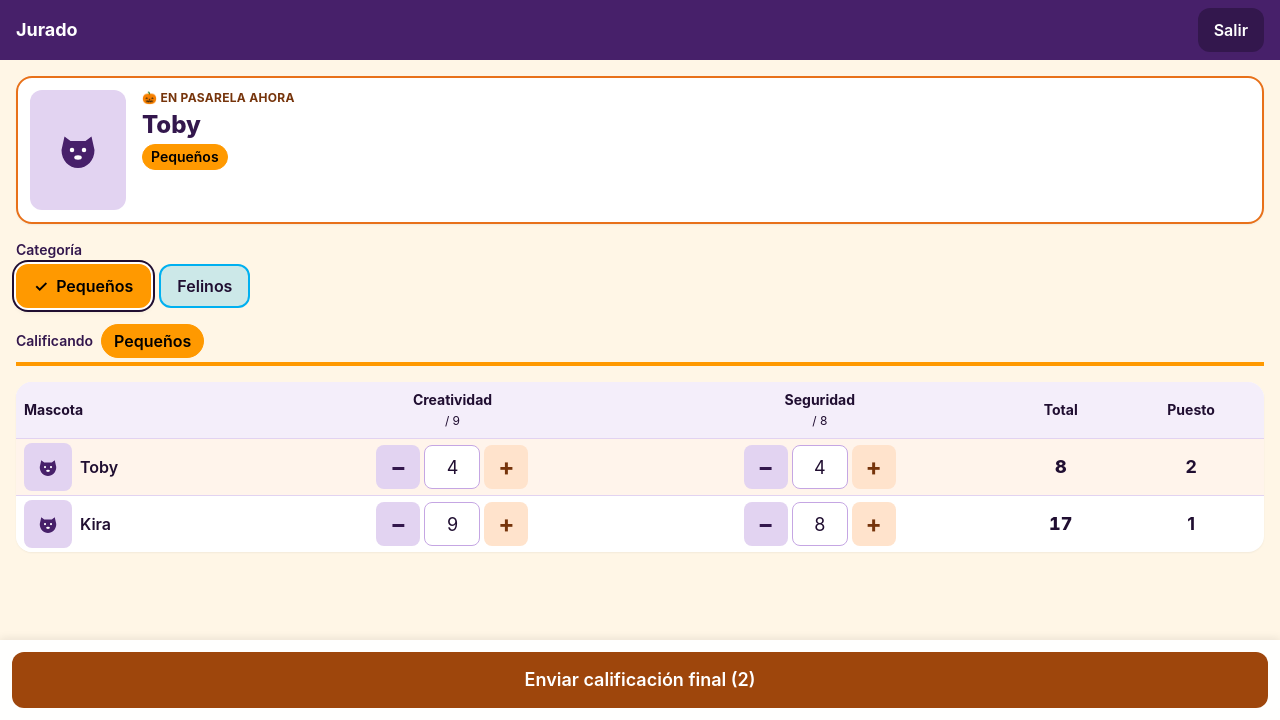
it: envío final: confirma mostrando el ranking tentativo y envía las filas pendientes de la categoría (CA6)
Click the button with test id "enviar-final" at (640, 680), box x1=12 y1=652 x2=1268 y2=708
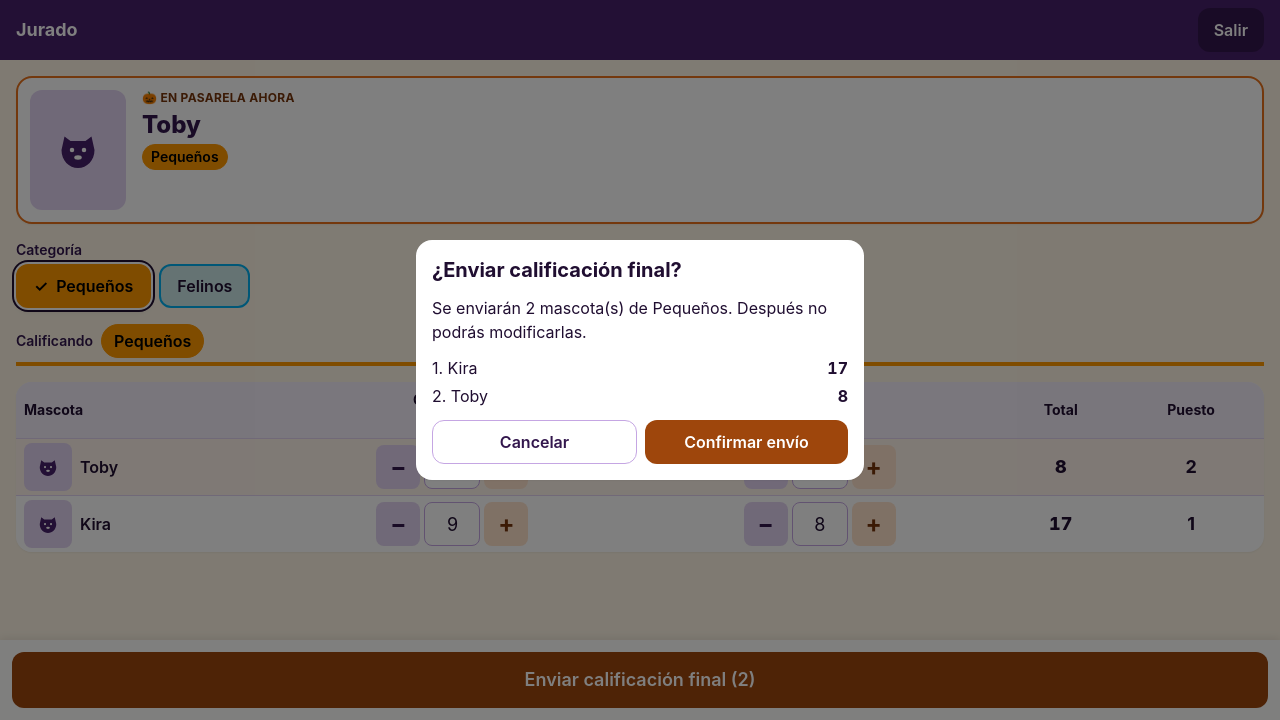
Click the button with test id "confirmar-final" at (746, 442), box x1=645 y1=420 x2=848 y2=464
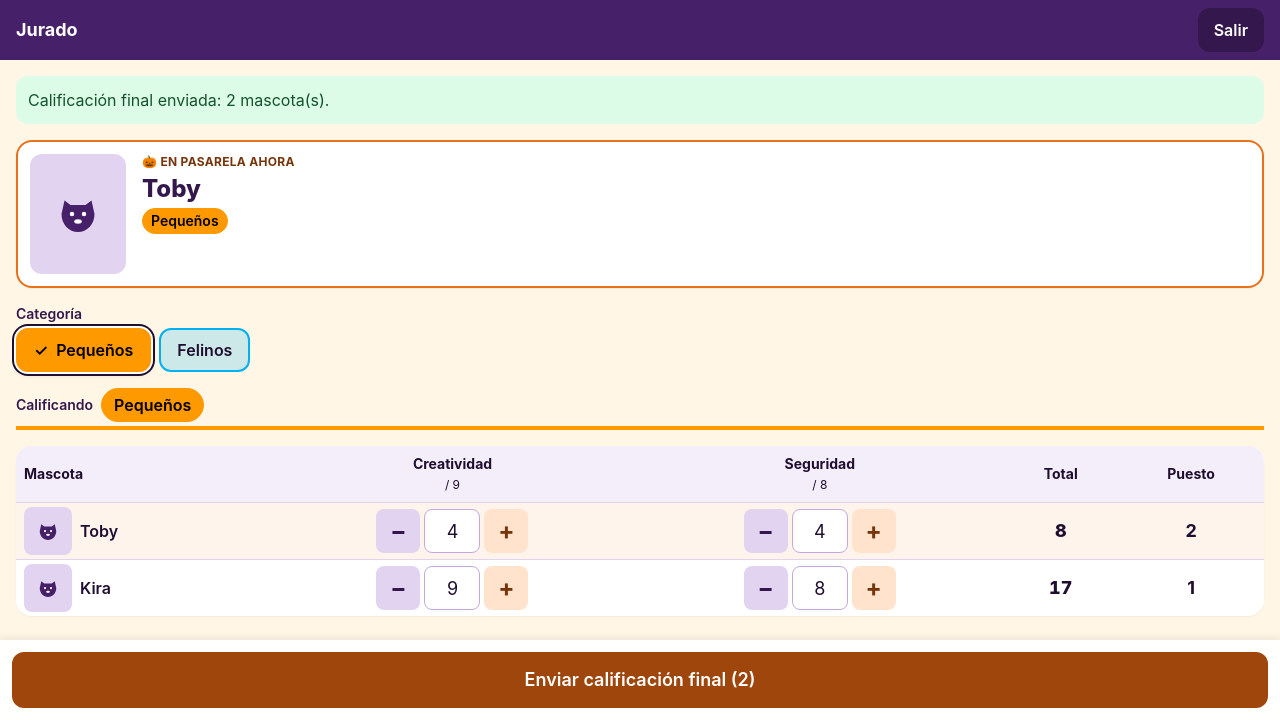
Expected: the message with test id "aviso" shows "2 mascota(s)", x1=28 y1=90 x2=329 y2=110
